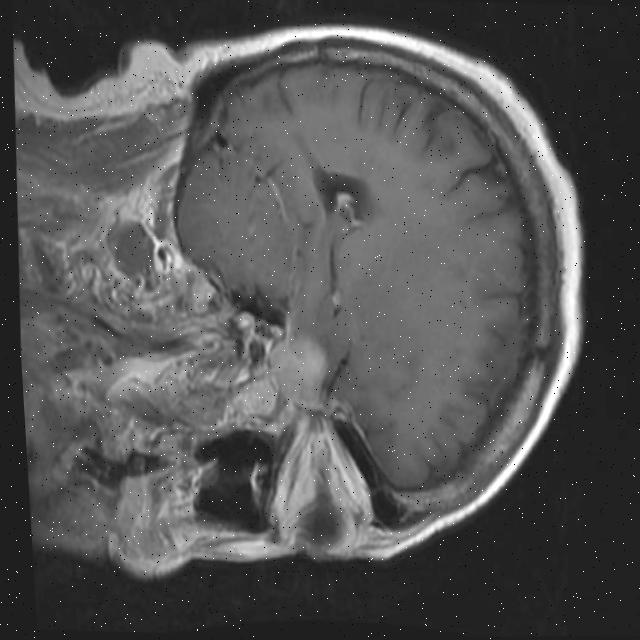Meningioma: (264, 335, 335, 414)
